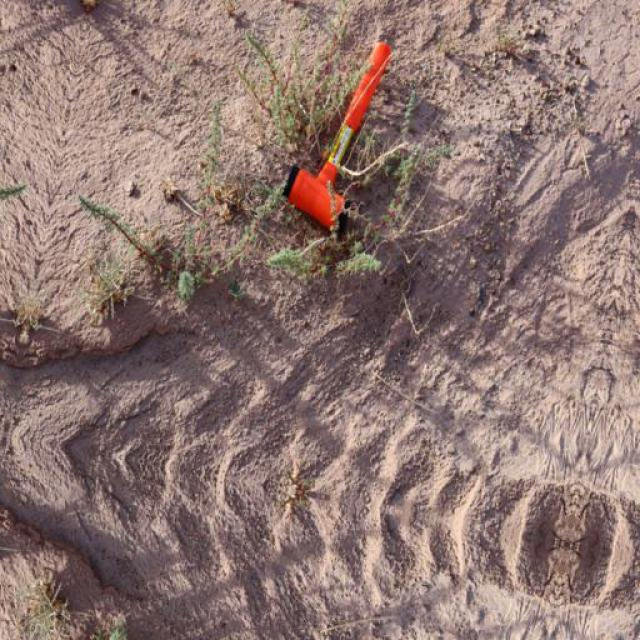mallet: (280, 39, 394, 231)
